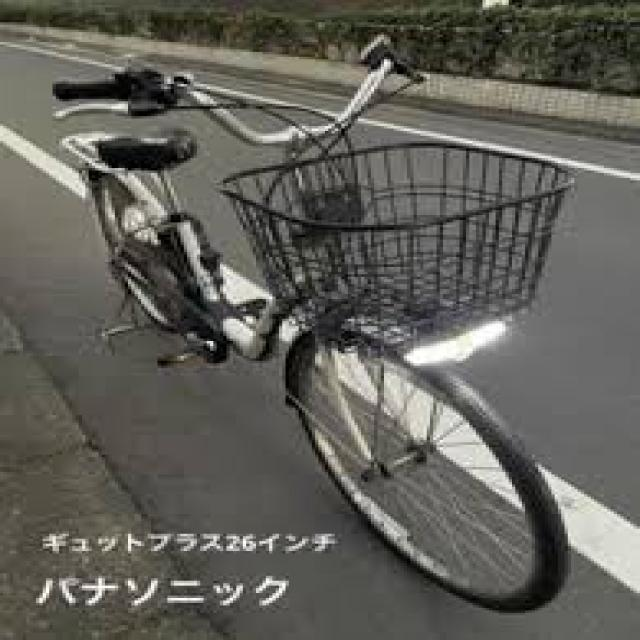basket: (220, 140, 577, 350)
